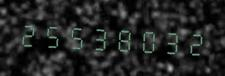eight: (113, 20, 136, 57)
five: (41, 16, 64, 53), (65, 17, 88, 54)
three: (89, 18, 112, 55), (161, 22, 184, 59)
two: (185, 23, 208, 61), (17, 15, 40, 52)
zero: (137, 21, 160, 58)
